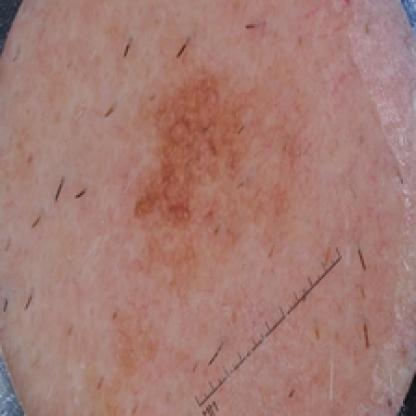Skin_Cancer-Malignant: (135, 75, 233, 236)
